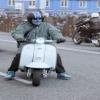motorcycles: (17, 39, 58, 86), (72, 25, 100, 47)
